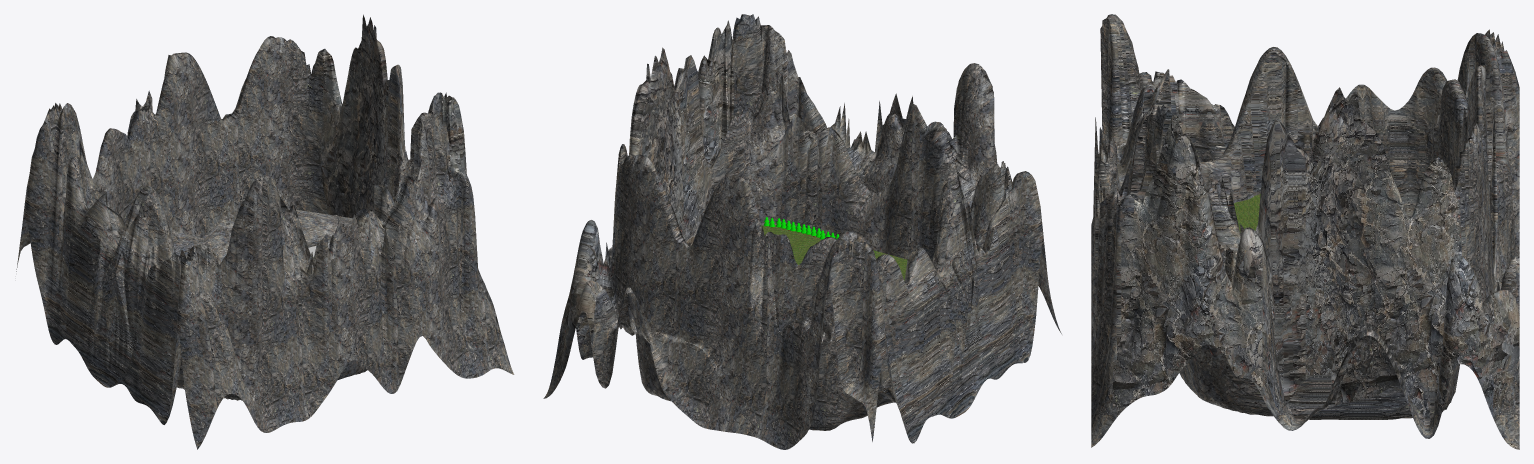
Rendered from map.fbx.
3 renders of one model, left to right at view 1: azimuth 30°, elevation 25°; view 2: azimuth 150°, elevation 25°; view 3: azimuth 270°, elevation 25°, orthographic. The views are drawn at different scales.
Parts seen in each view (by area): view 1: pPlane4, pasted__pCone1, pCone1, pCone13; view 2: pPlane4, pPlane5; view 3: pPlane4, pPlane5.
Part boxes in pixels (bbox=[...]): pPlane4: bbox=[16, 14, 514, 449]; pasted__pCone1: bbox=[288, 208, 352, 243]; pCone1: bbox=[203, 219, 234, 262]; pCone13: bbox=[171, 231, 204, 258]; pPlane4: bbox=[543, 14, 1061, 449]; pPlane5: bbox=[761, 224, 907, 280]; pPlane4: bbox=[1091, 14, 1519, 449]; pPlane5: bbox=[1234, 194, 1260, 232].
Bounding box in the file's own units: 19.93 × 17.42 × 19.75.
